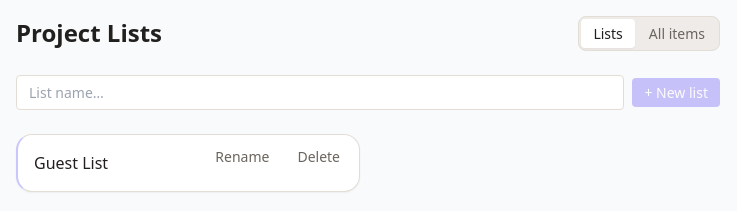
Test: ProjectView › clicking rename reveals an inline input with the current name
What coordinates should you click on to do the following:
click the button with test id "rename-list-l1"
I would click on:
 (242, 156)
Its box is [203,142,281,171].
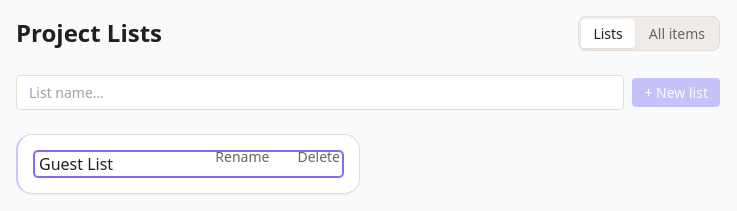
Now the field with test id "rename-input-l1" holds "Guest List", box [34,151,343,177]
